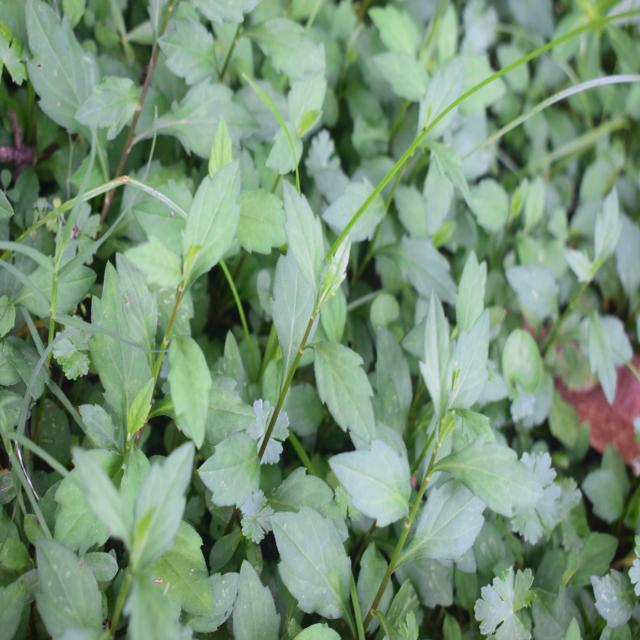Indian aster: (366, 270, 534, 582), (260, 189, 383, 470)
